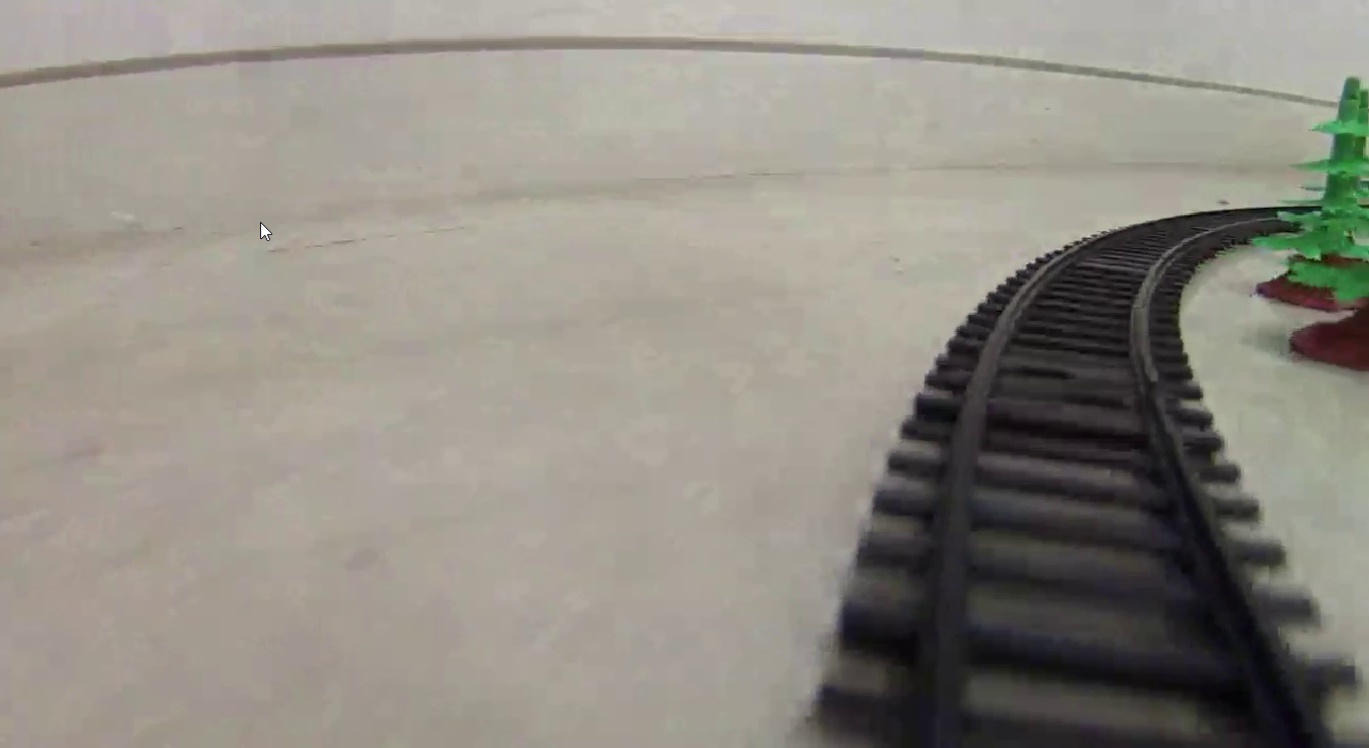tree: (1256, 74, 1369, 315)
